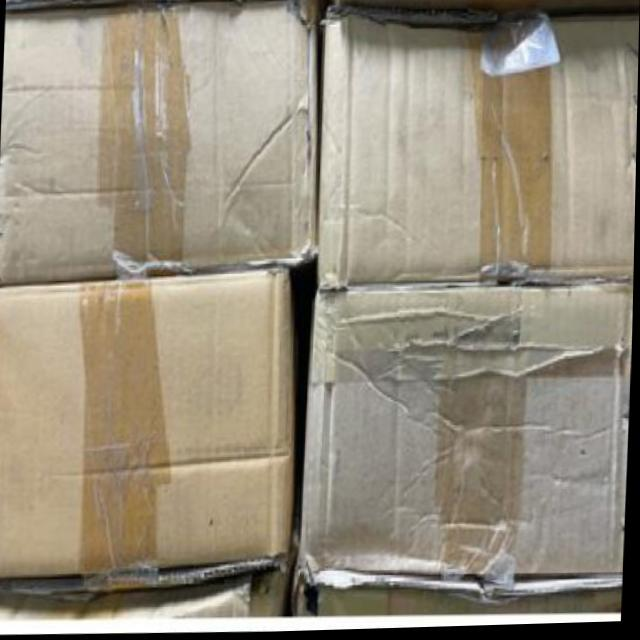box: (300, 286, 633, 608), (0, 284, 304, 593), (319, 3, 640, 283), (0, 6, 317, 274)
